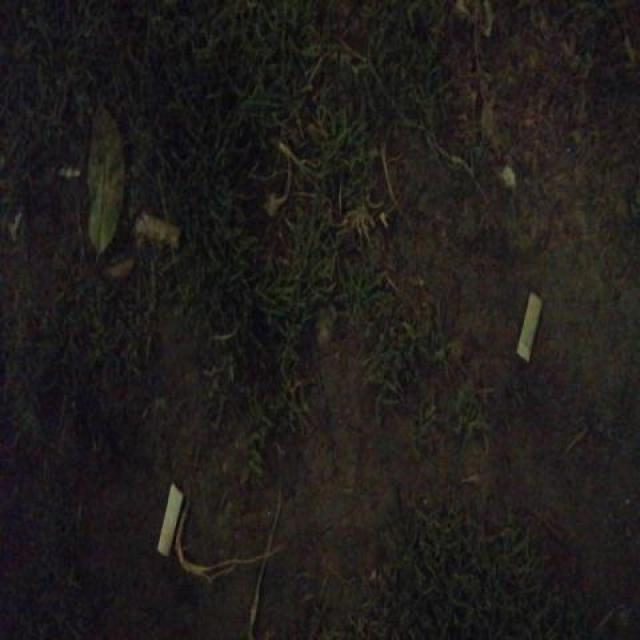non-organic waste: (512, 284, 548, 364), (153, 477, 186, 558), (127, 206, 182, 254)
